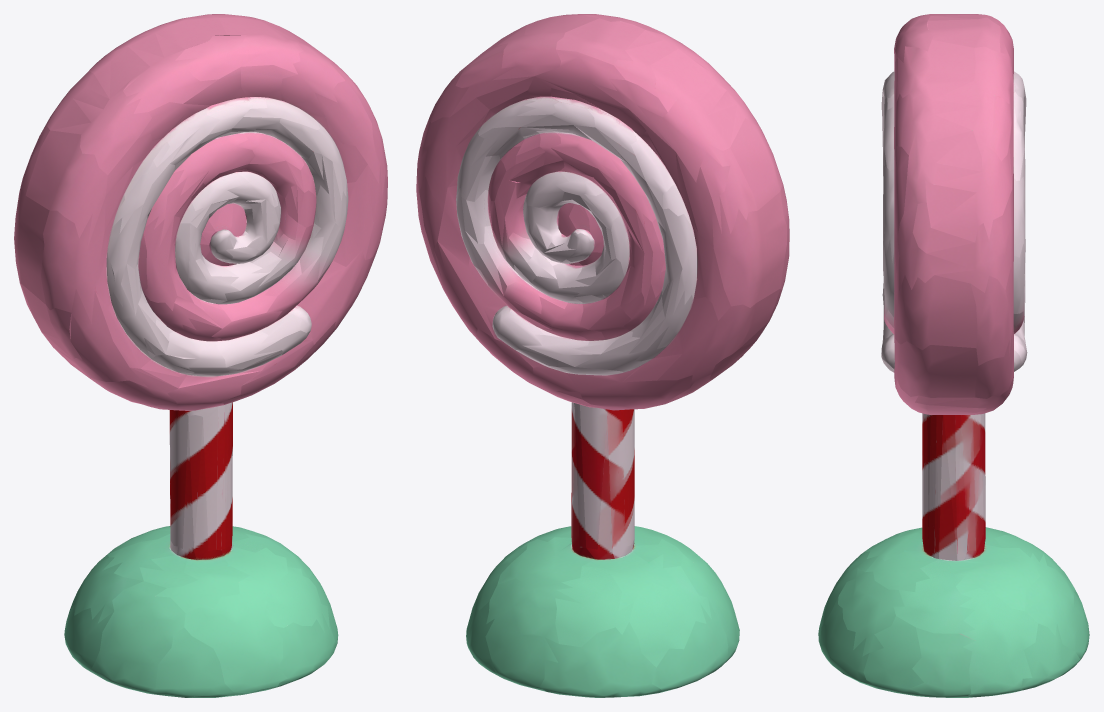
File: lollipop_tree.glb
3 renders of one model, left to right at view 1: azimuth 30°, elevation 25°; view 2: azimuth 150°, elevation 25°; view 3: azimuth 270°, elevation 25°, orthographic.
Bounding box in the file's own units: 1.11 × 1.9 × 0.7633.
1 material, 1 textured.
